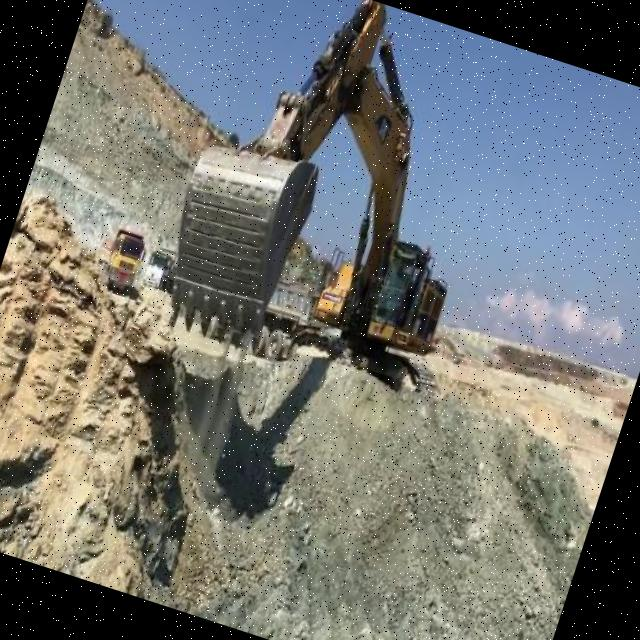Dump Truck: (250, 276, 320, 366), (90, 223, 148, 294), (140, 243, 184, 298)
Excavator: (143, 0, 536, 410)
